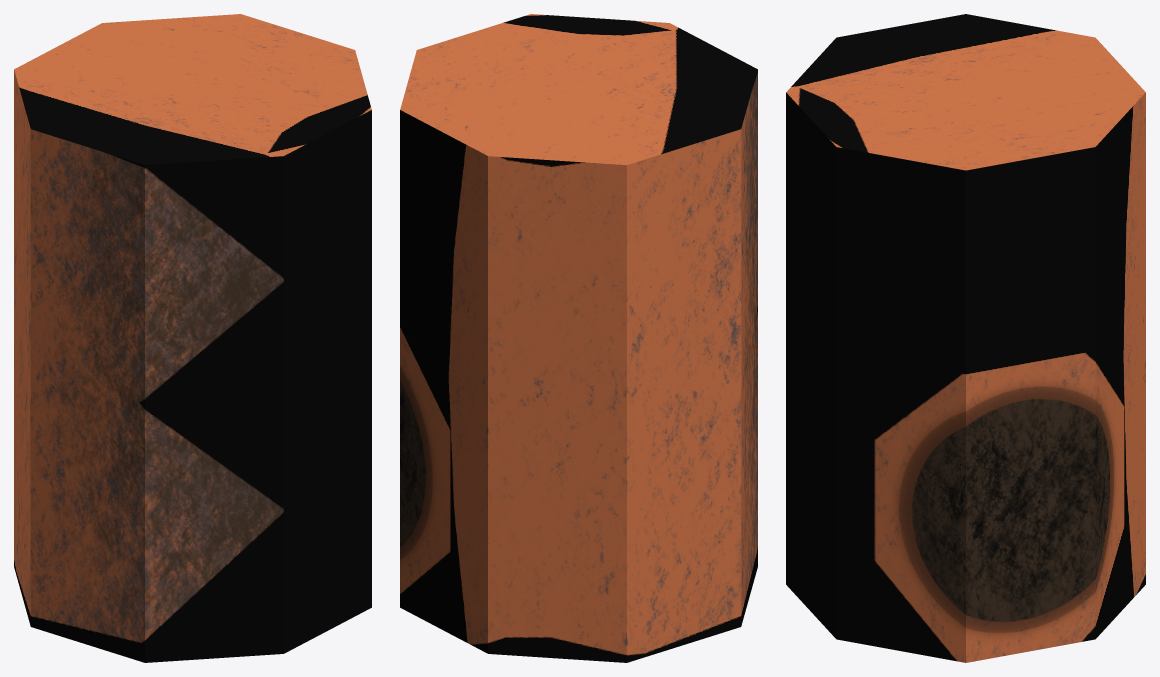
File: papertowel.obj
3 views of the same model, side by side, from view 1: azimuth 30°, elevation 25°; view 2: azimuth 150°, elevation 25°; view 3: azimuth 270°, elevation 25° (orthographic).
Parts seen in each view (by area): view 1: papertowel; view 2: papertowel; view 3: papertowel.
Part boxes in pixels (left/top/right/bottom): papertowel: left=14, top=14, right=371, bottom=662; papertowel: left=400, top=14, right=757, bottom=662; papertowel: left=786, top=14, right=1145, bottom=662.
Size of the model in its own units: 0.3454 by 0.5065 by 0.3353.
